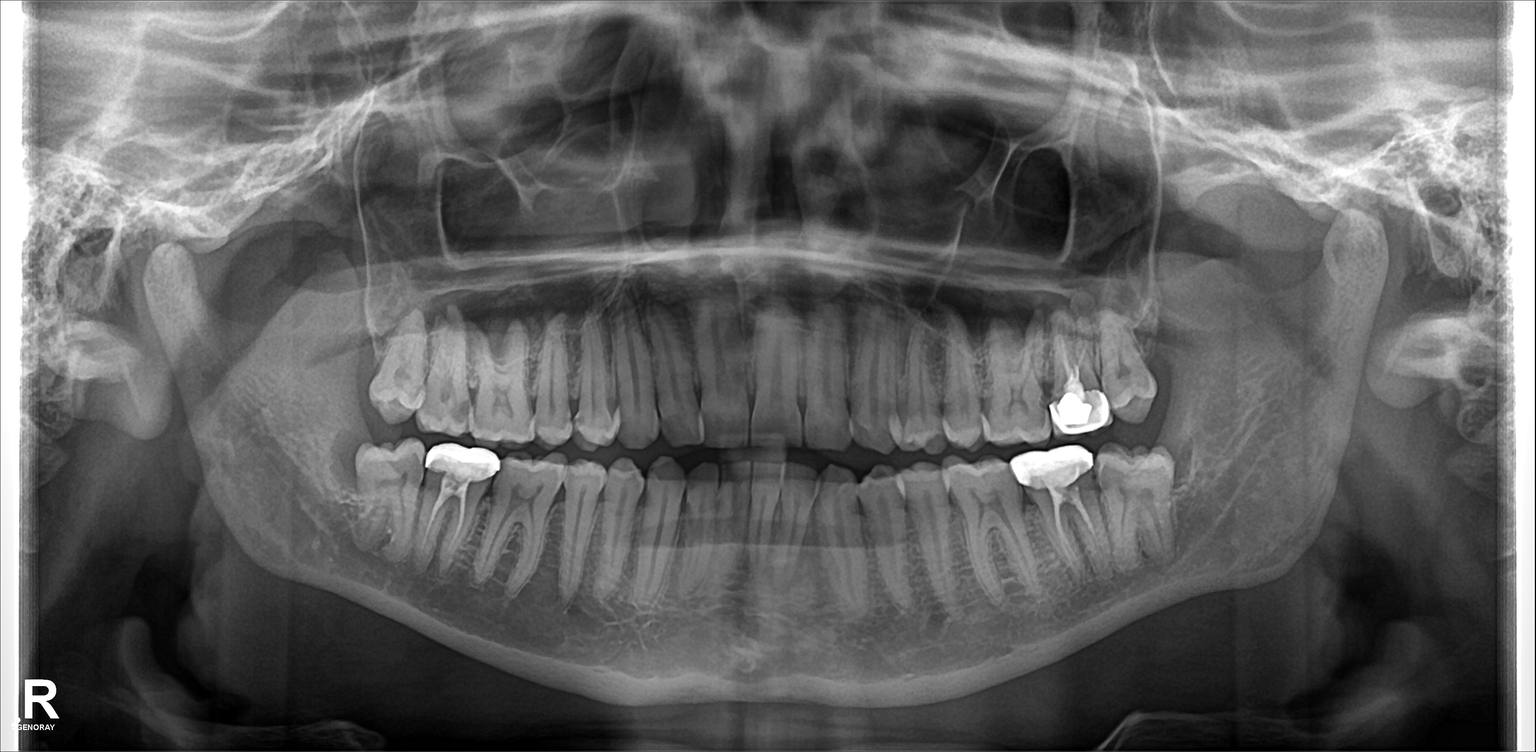Dental Caries: (453, 402, 478, 426)
Endodontically Treated Tooth: (1028, 449, 1098, 587), (425, 441, 490, 569), (1048, 320, 1111, 429)
